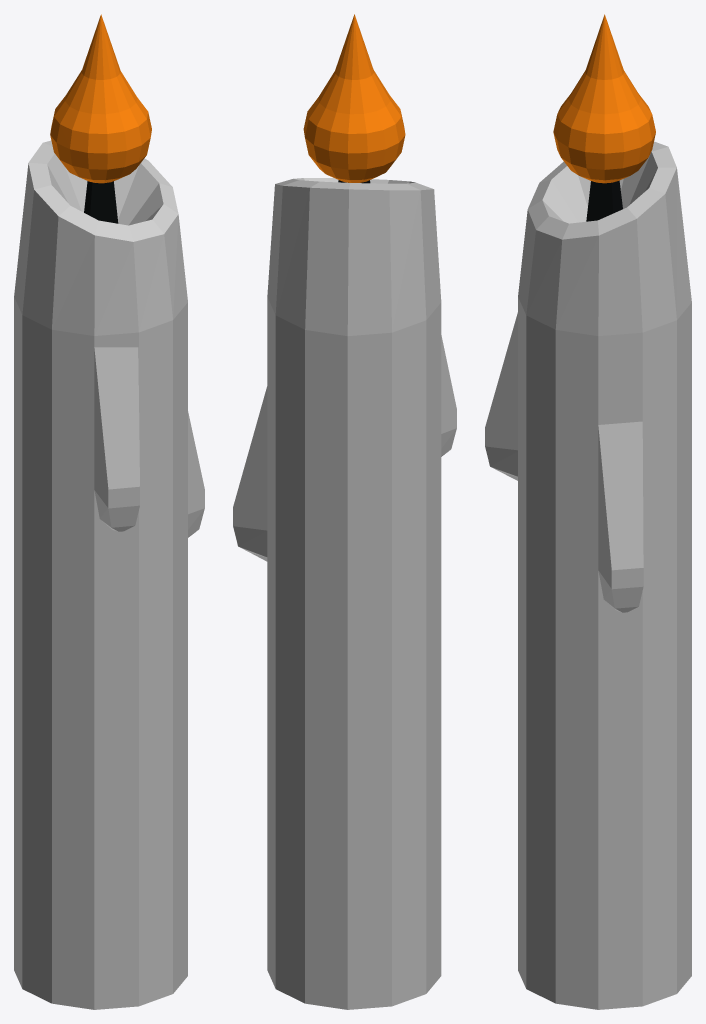
Rendered from candleSmall.obj.
3 renders of one model, left to right at view 1: azimuth 30°, elevation 25°; view 2: azimuth 150°, elevation 25°; view 3: azimuth 270°, elevation 25°, orthographic.
Visible parts, largest first — view 1: candleSmall_Cylinder.005; view 2: candleSmall_Cylinder.005; view 3: candleSmall_Cylinder.005.
Boxes of the visible parts, x1=… form: candleSmall_Cylinder.005: x1=14, y1=14, x2=204, y2=1009; candleSmall_Cylinder.005: x1=233, y1=14, x2=456, y2=1009; candleSmall_Cylinder.005: x1=485, y1=14, x2=691, y2=1009.
Size of the model in its own units: 0.1739 by 0.873 by 0.1707.
